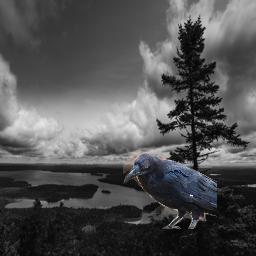Crow: (123, 151, 217, 229)
